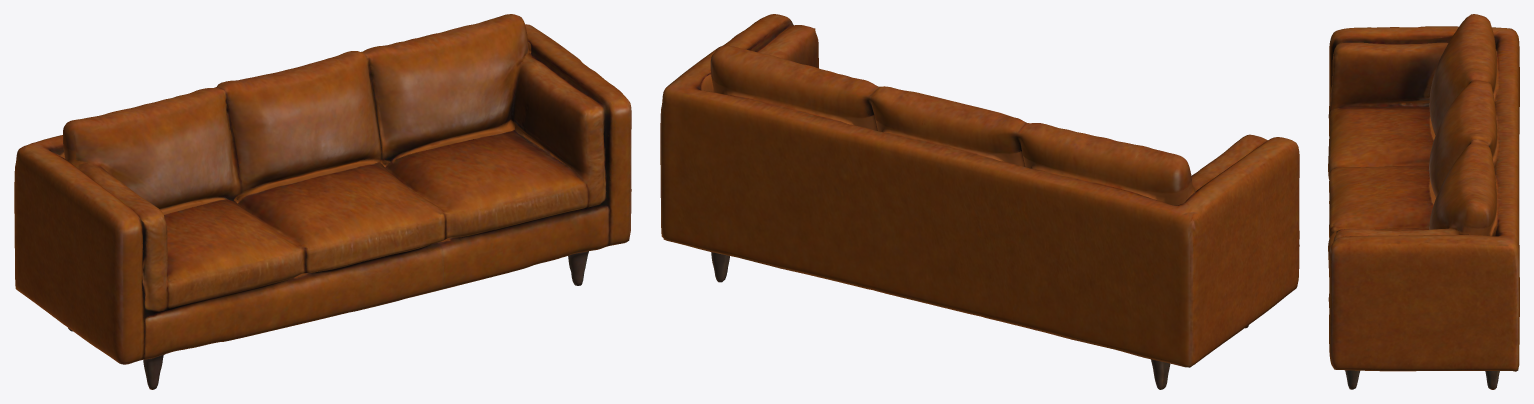
File: sofa.glb
3 renders of one model, left to right at view 1: azimuth 30°, elevation 25°; view 2: azimuth 150°, elevation 25°; view 3: azimuth 270°, elevation 25°, orthographic. The views are drawn at different scales.
Bounding box in the file's own units: 2 × 0.805 × 0.7333.
Materials: 1 (1 with a texture image).
